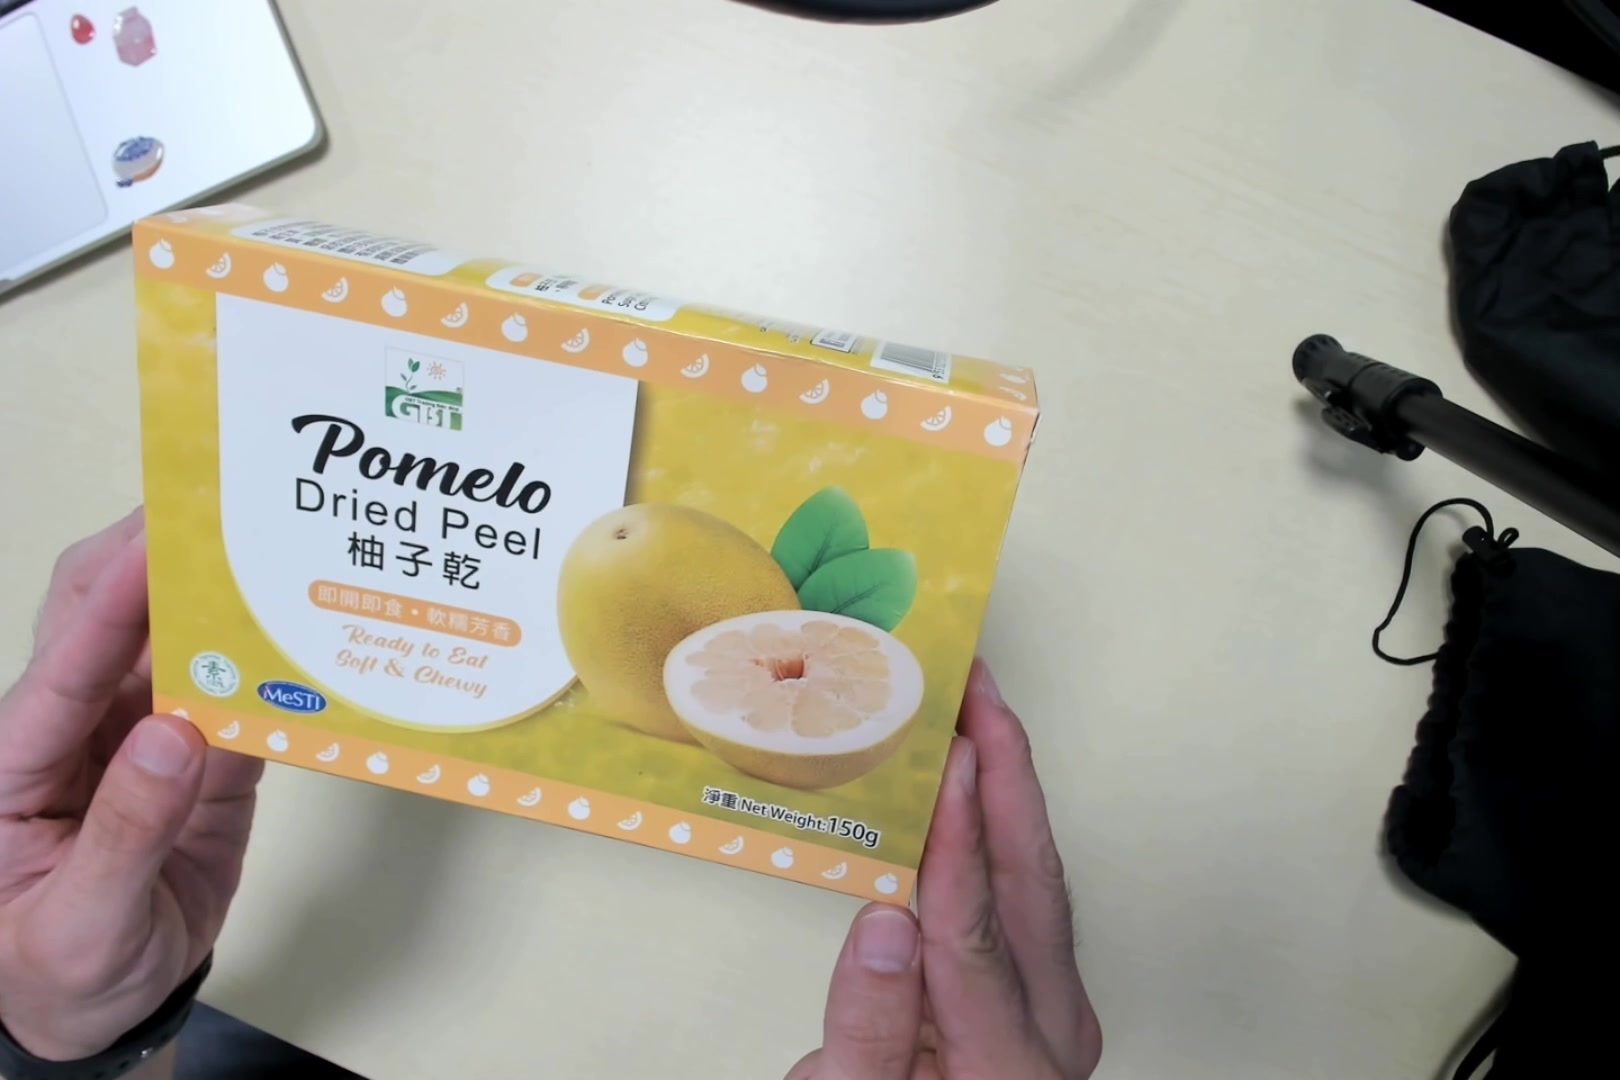DriedVegetables_100-199g_NonHalal_NonHealthy: (139, 196, 1041, 916)
